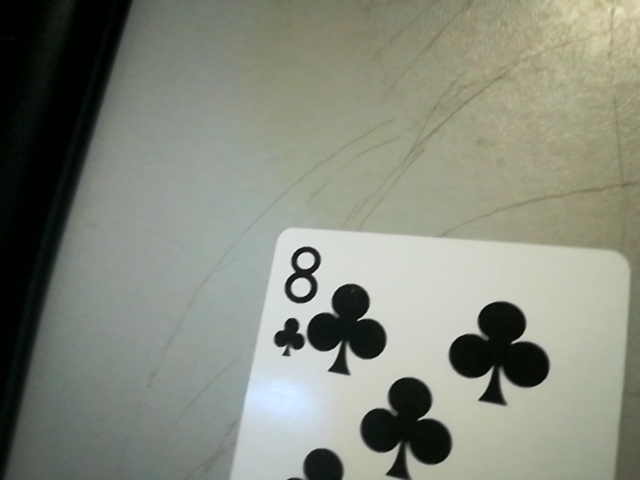mh 8: (266, 235, 325, 362)
